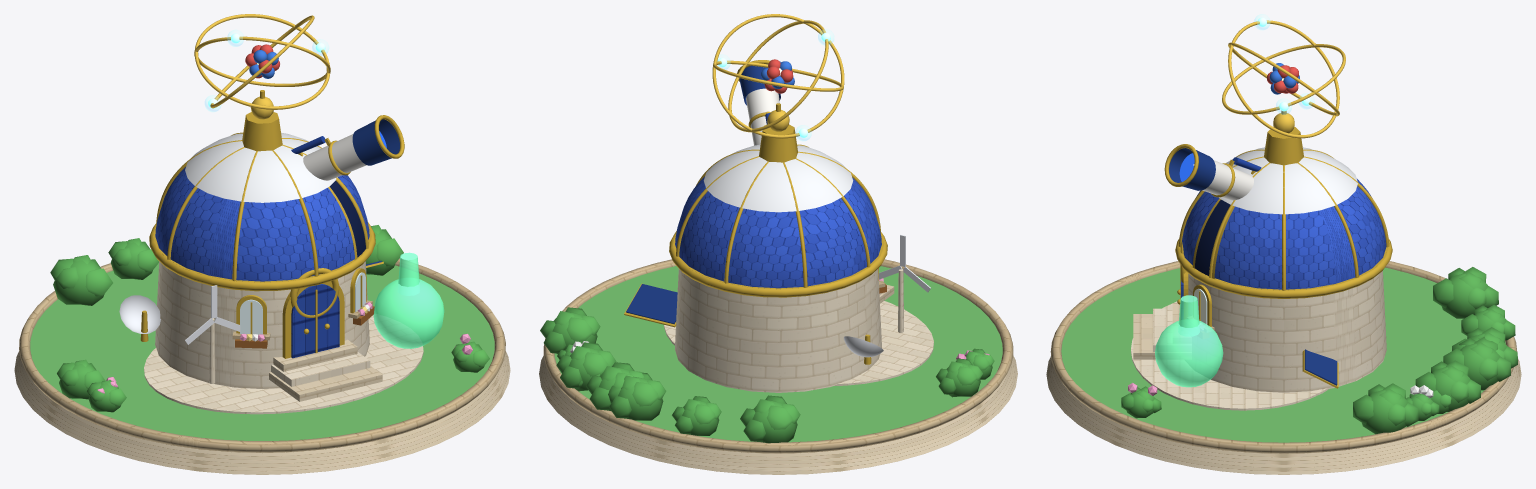
File: bldg-science.glb
3 renders of one model, left to right at view 1: azimuth 30°, elevation 25°; view 2: azimuth 150°, elevation 25°; view 3: azimuth 270°, elevation 25°, orthographic. The views are drawn at different scales.
Parts seen in each view (by area): view 1: bldg-science, snow, spin (×2); view 2: bldg-science, snow, spin (×2); view 3: bldg-science, snow, spin.
Boxes of the visible parts, x1,y1,x2,y2 form: bldg-science: (14, 90, 510, 474); snow: (185, 132, 337, 202); spin (×2): (185, 14, 330, 344); bldg-science: (539, 60, 1017, 474); snow: (703, 144, 853, 212); spin (×2): (712, 14, 930, 292); bldg-science: (1046, 110, 1521, 474); snow: (1219, 147, 1357, 214); spin: (1222, 20, 1345, 138).
Bounding box in the file's own units: 7.76 × 6.16 × 7.76.
Materials: 39 (6 with a texture image).
